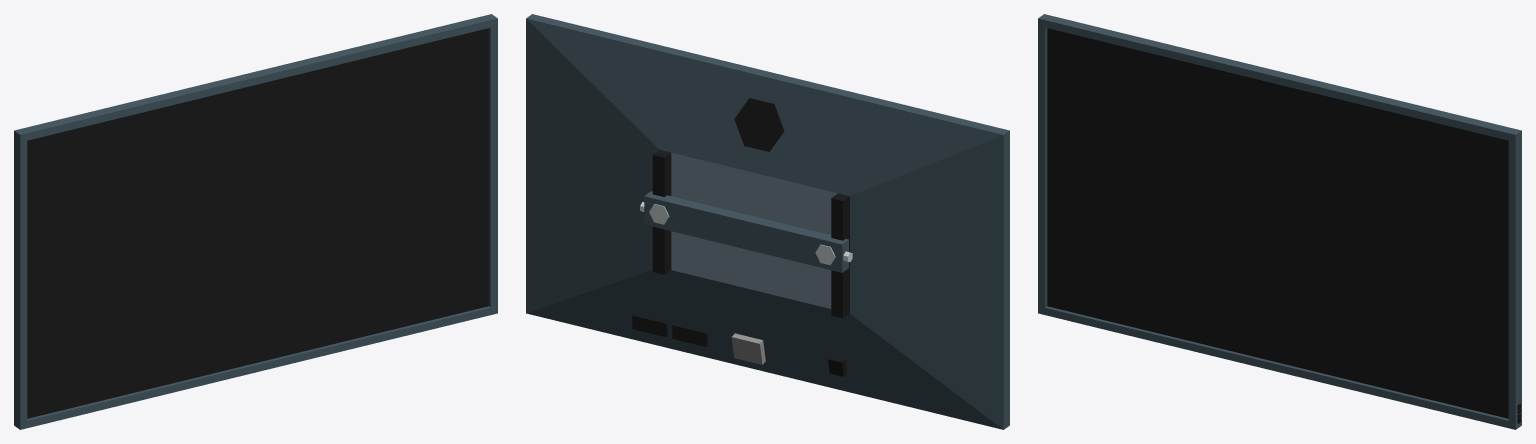
Rendered from flat_screen_tv.obj.
3 views of the same model, side by side, from view 1: azimuth 30°, elevation 25°; view 2: azimuth 150°, elevation 25°; view 3: azimuth 330°, elevation 25° (orthographic).
Parts seen in each view (by area): view 1: group1454904968; view 2: group1454904968, group596176051, group1601593260, group1257628551, group1840578182, group207519990, group1468930754, group1923268096; view 3: group1454904968.
Part boxes in pixels (x1,y1,x2,y2): group1454904968: (14,14,497,429); group1454904968: (526,14,1009,429); group596176051: (644,191,848,272); group1601593260: (734,98,784,151); group1257628551: (652,150,671,274); group1840578182: (831,193,849,318); group207519990: (731,333,765,364); group1468930754: (632,315,668,337); group1923268096: (672,325,708,346); group1454904968: (1038,14,1521,429).
Size of the model in its own units: 4.06 by 2.39 by 0.4063.
